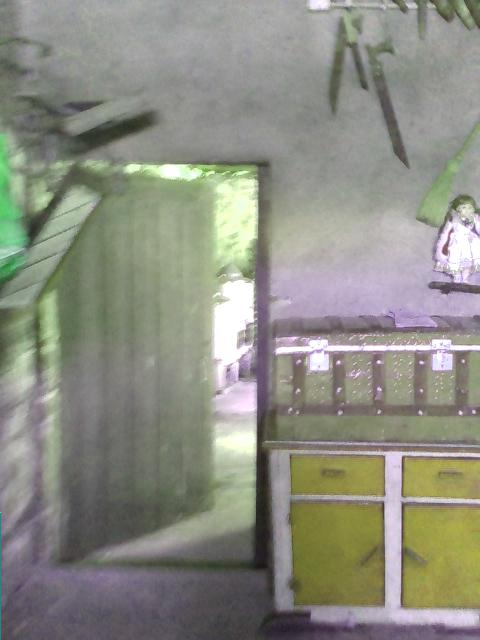semi_door: (32, 156, 272, 576)
